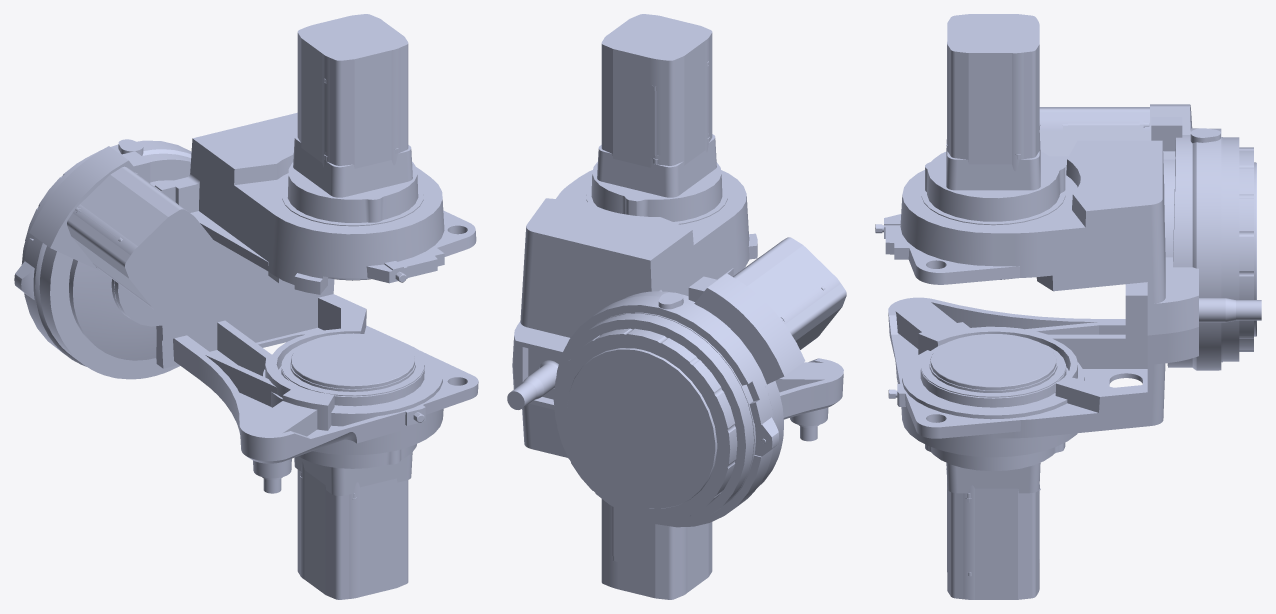
File: IRB460_SWING.glb
3 renders of one model, left to right at view 1: azimuth 30°, elevation 25°; view 2: azimuth 150°, elevation 25°; view 3: azimuth 270°, elevation 25°, orthographic.
Visible parts, largest first — view 1: IRB460_SWING; view 2: IRB460_SWING; view 3: IRB460_SWING.
Part boxes in pixels (x1,y1,x2,y2): IRB460_SWING: (14, 14, 478, 599); IRB460_SWING: (507, 14, 846, 599); IRB460_SWING: (875, 14, 1261, 599).
Bounding box in the file's own units: 0.7331 × 1.17 × 0.752.
